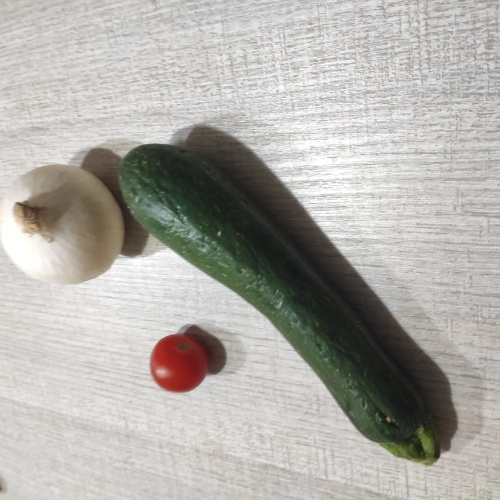cipolla: (8, 168, 120, 292)
pomodoro: (149, 327, 213, 393)
zucchine: (142, 137, 459, 476)
